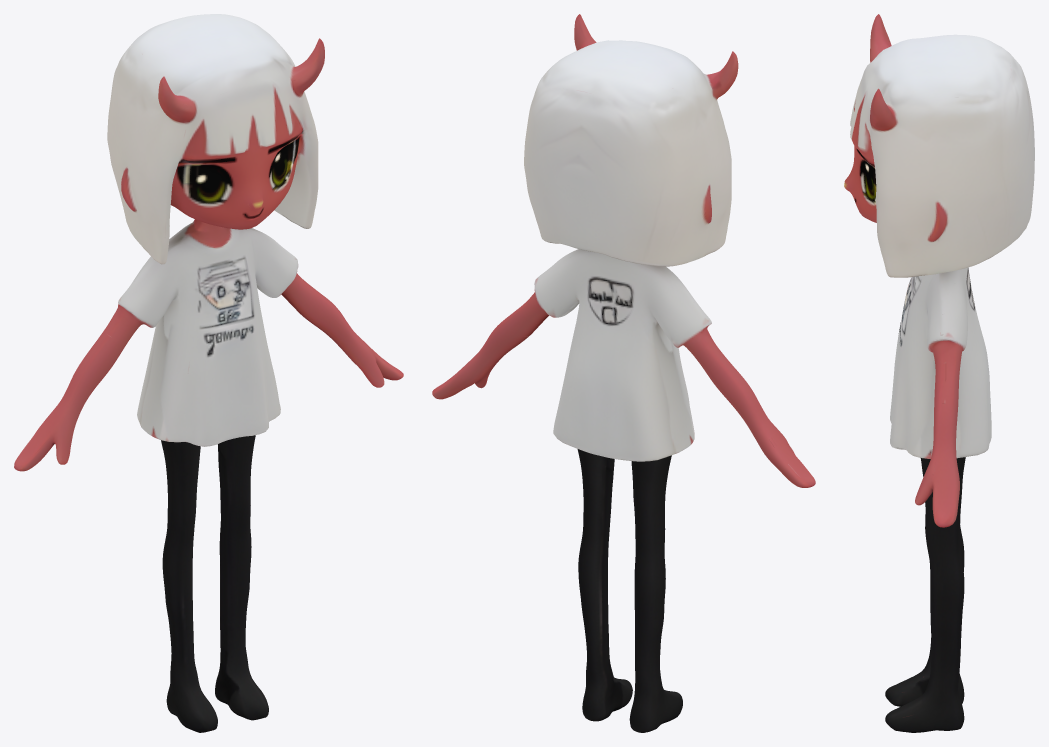
The model's file is lod_basic_shaded.fbx.
3 renders of one model, left to right at view 1: azimuth 30°, elevation 25°; view 2: azimuth 150°, elevation 25°; view 3: azimuth 270°, elevation 25°, orthographic.
Visible parts, largest first — view 1: model_LOD0; view 2: model_LOD0; view 3: model_LOD0.
Part boxes in pixels (x1,y1,x2,y2): model_LOD0: (14,14,403,732); model_LOD0: (432,14,815,732); model_LOD0: (844,14,1034,732).
Size of what is drawn, in the model's own units: 114 by 190 by 49.44.
